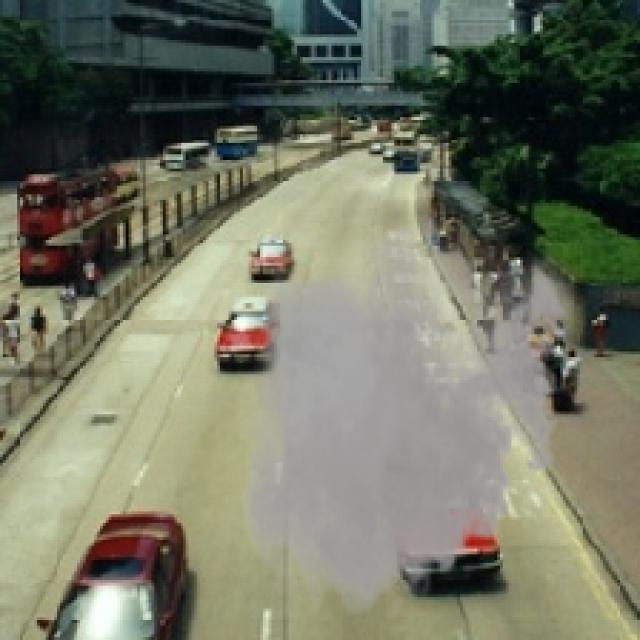Smoke: (232, 202, 577, 628)
